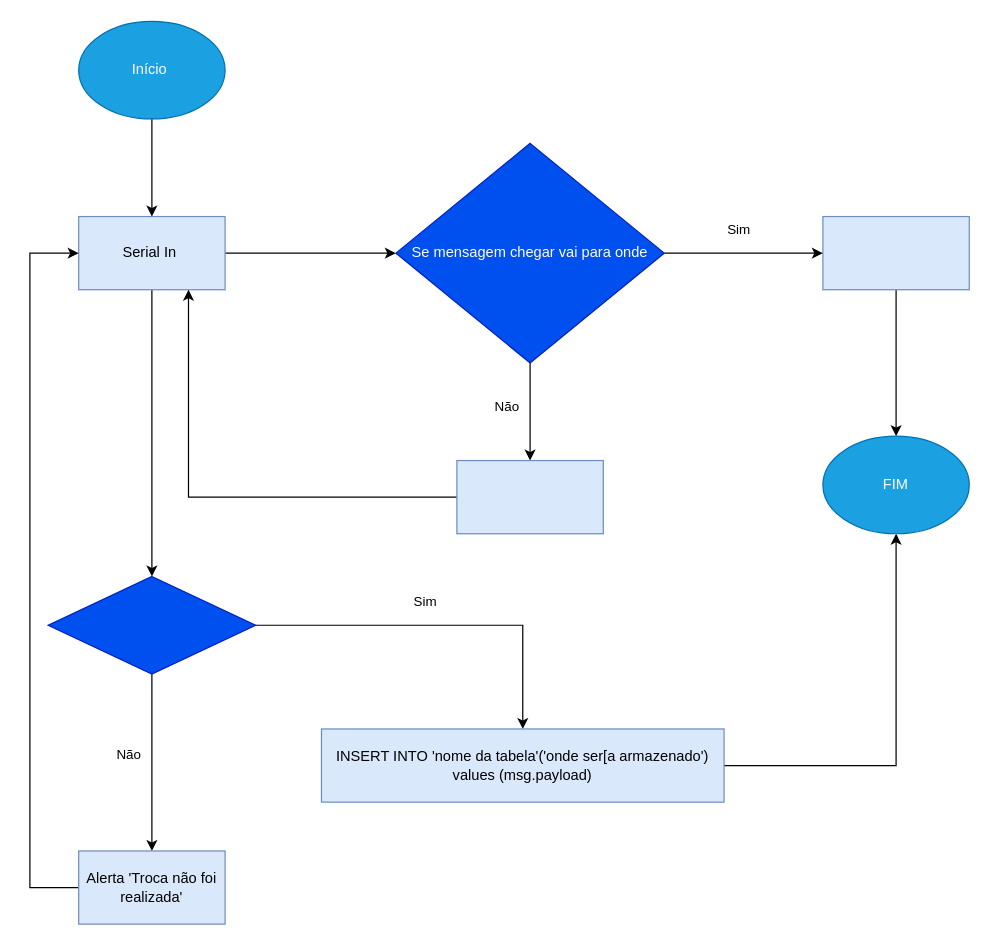
The diagram is 991 pixels wide and 946 high, and some of its shapes have lost their labels. Here are the shapes that lost their labels. From the top down, the box of each, then its label:
(822, 215, 969, 290): Whatsapp Message
(456, 459, 603, 534): Alerta 'Enviar a mensagem falhou'
(47, 575, 256, 674): Trocar payload para topic
